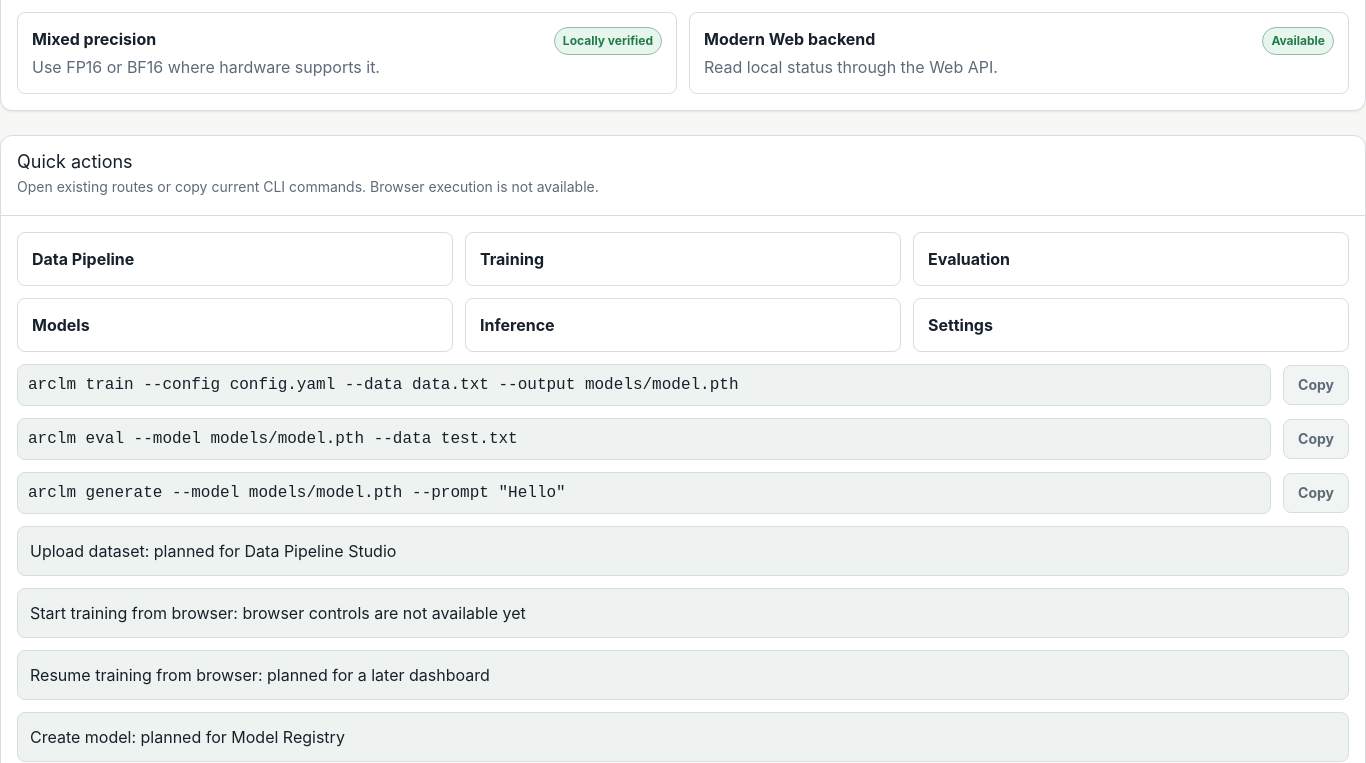
Scenario: SimpleDashboard actions and failure handling › copies CLI commands and handles copy failure
The width and height of the screenshot is (1366, 763).
(page scrolled)
Click the 1st button "Copy": (1316, 385) [1283,365,1349,405]
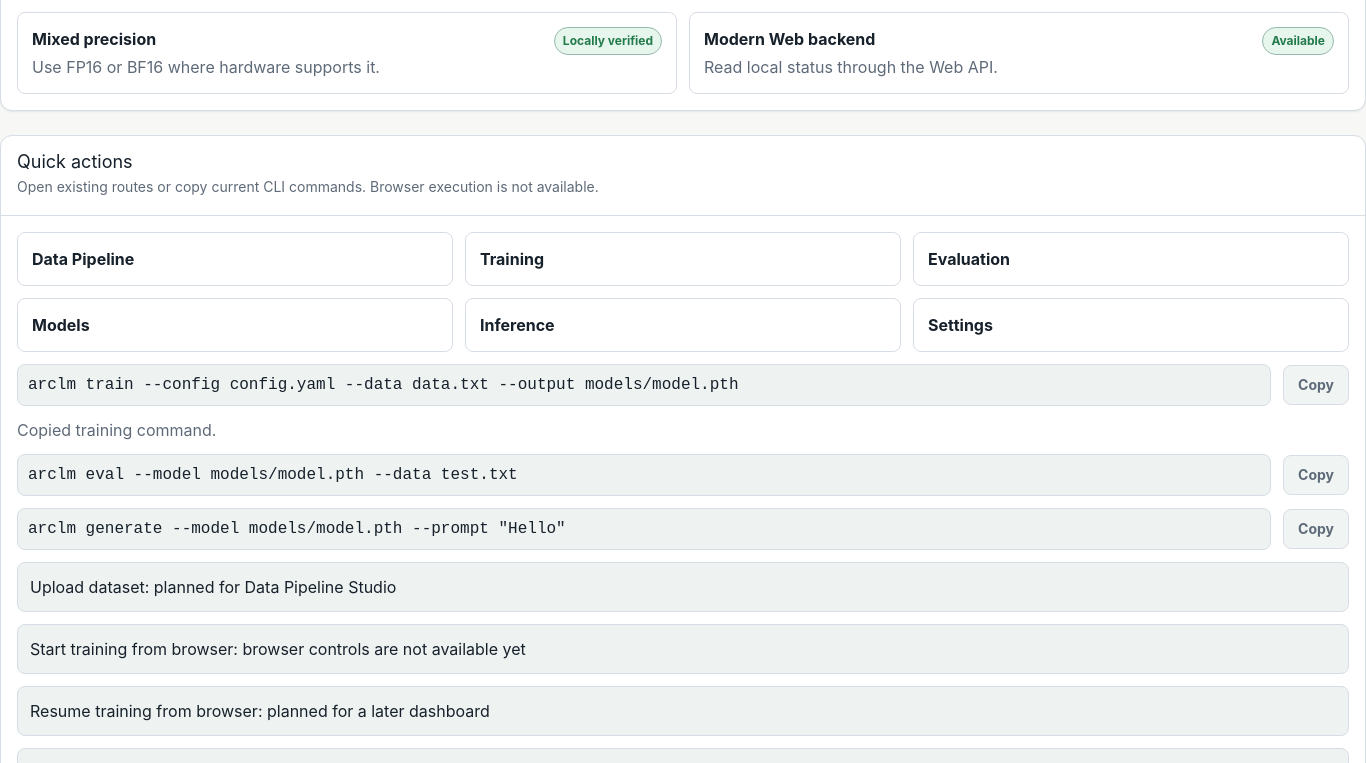
expect the text "Copied training command." is shown: met, box [17,420,216,440]
Click the 2nd button "Copy": (1316, 475) [1283,455,1349,495]
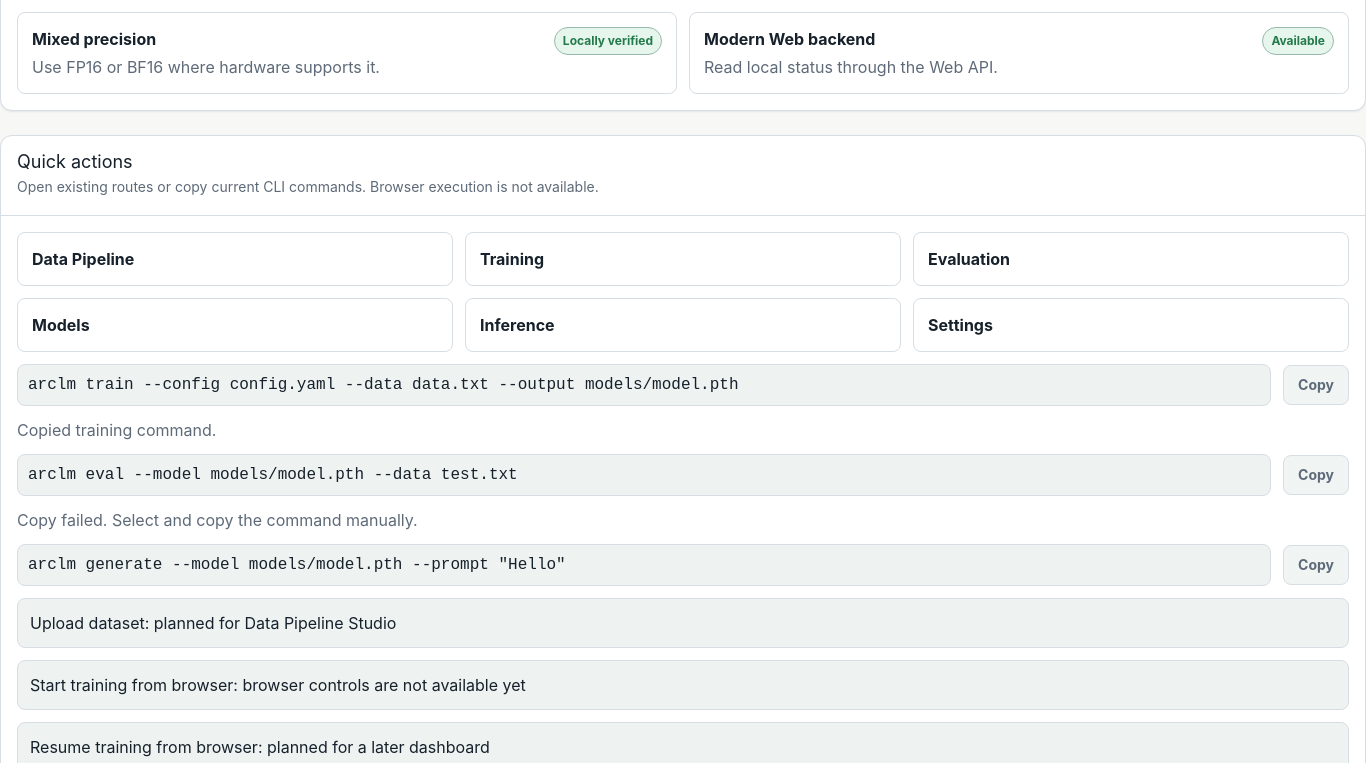
expect the text "Copy failed. Select and copy the command manually." is shown: met, box [17,510,418,530]
